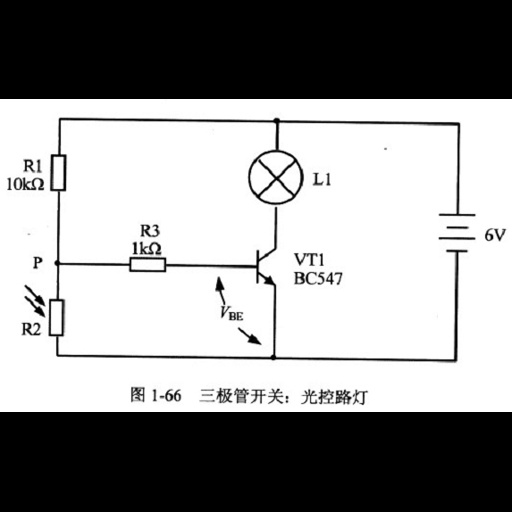battery: (427, 209, 479, 258)
firstresistance: (48, 151, 71, 194), (124, 255, 173, 274)
light: (243, 143, 306, 212)
npn: (247, 247, 285, 290)
